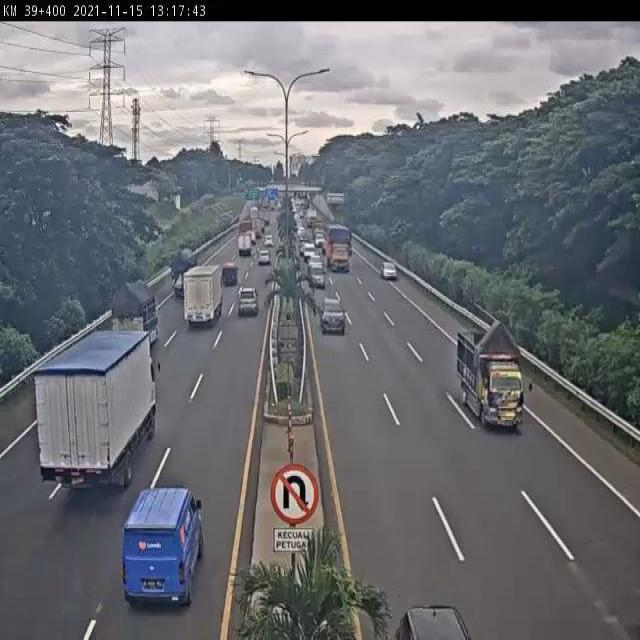bus-s-: (121, 485, 206, 611)
car: (318, 295, 346, 336), (236, 285, 259, 319), (306, 262, 329, 294), (380, 258, 399, 282)
truck-m-: (36, 329, 156, 492), (455, 319, 526, 432), (107, 279, 161, 356), (183, 264, 226, 325), (325, 221, 355, 275), (171, 245, 200, 300)
truck-s-: (220, 262, 240, 290)
